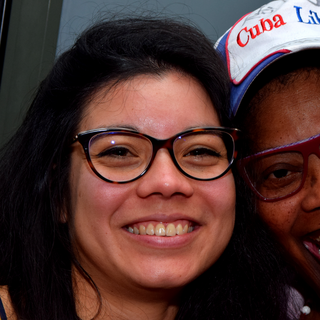eye: (255, 160, 301, 185), (179, 143, 225, 166), (97, 143, 142, 166)
